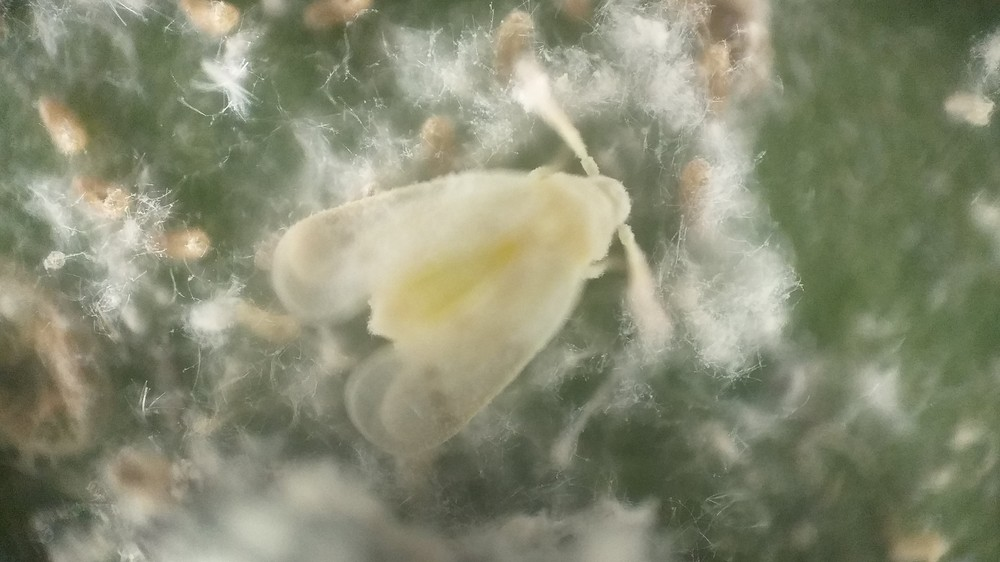Mosca Blanca: (264, 59, 690, 473)
